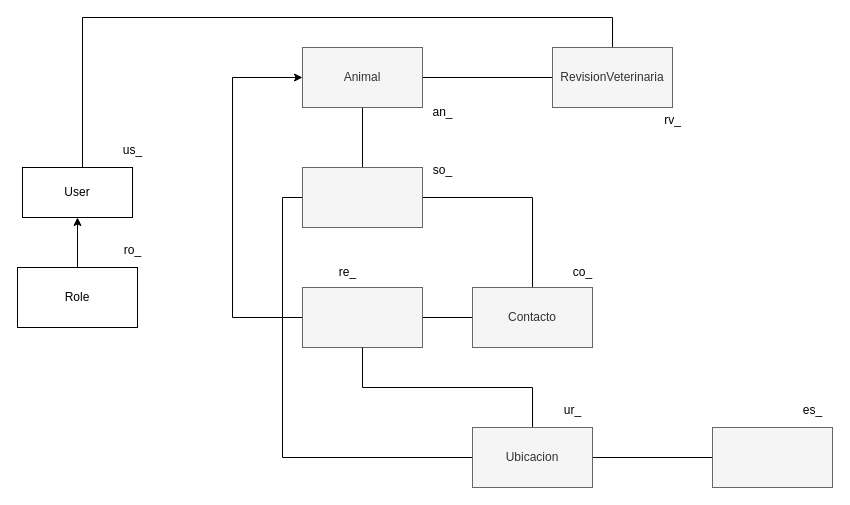
The diagram is 850 pixels wide and 505 high, and some of its shapes have lost their labels. Here are the shapes that lost their labels. From the top down, the centre of each, then its label:
the point at 362,197: Solicitud
the point at 362,317: Refugio
the point at 772,457: Estado
